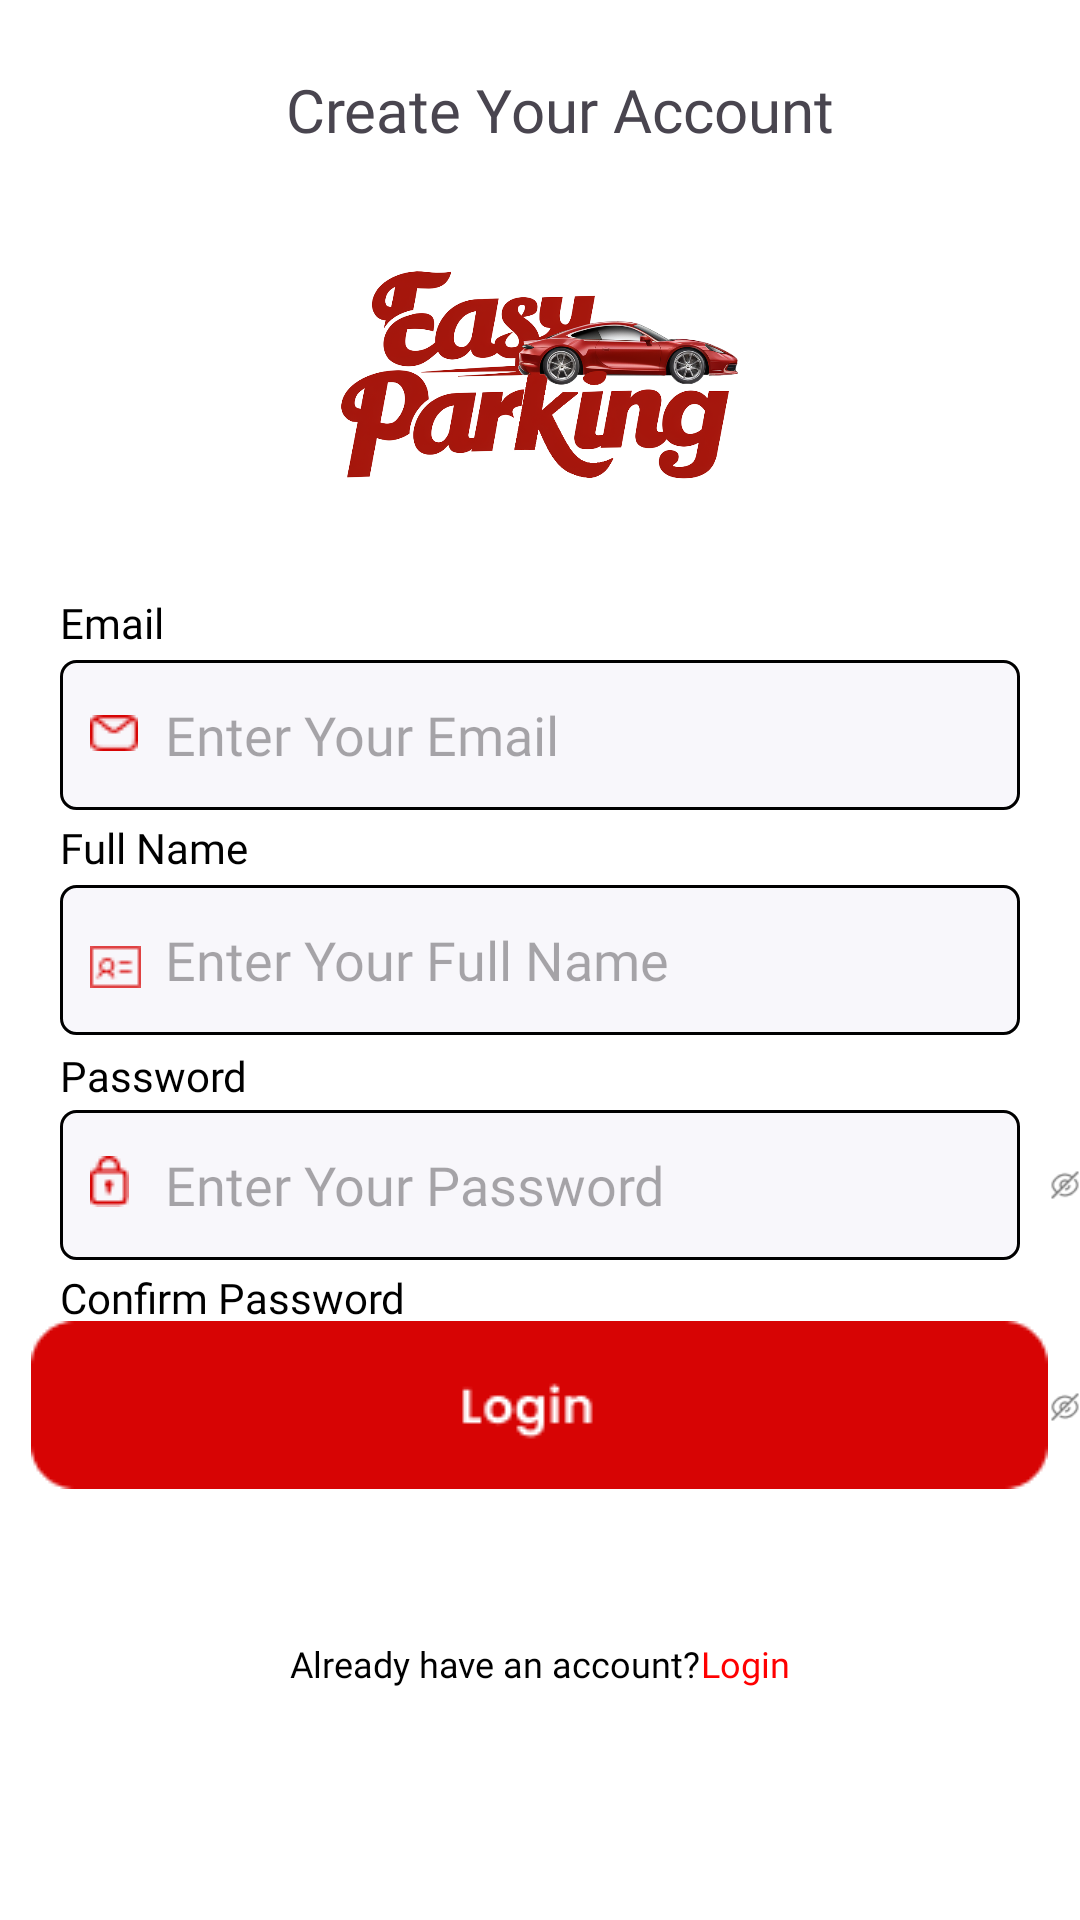

Named icons in this screenshot (1080w x 1920h) and their bounding boxes, BBox(x1, y1, x2, y2):
gembok: BBox(90, 1156, 129, 1207)
mata: BBox(1051, 1171, 1079, 1199), BBox(1051, 1393, 1079, 1421)
surat: BBox(90, 715, 138, 751)
